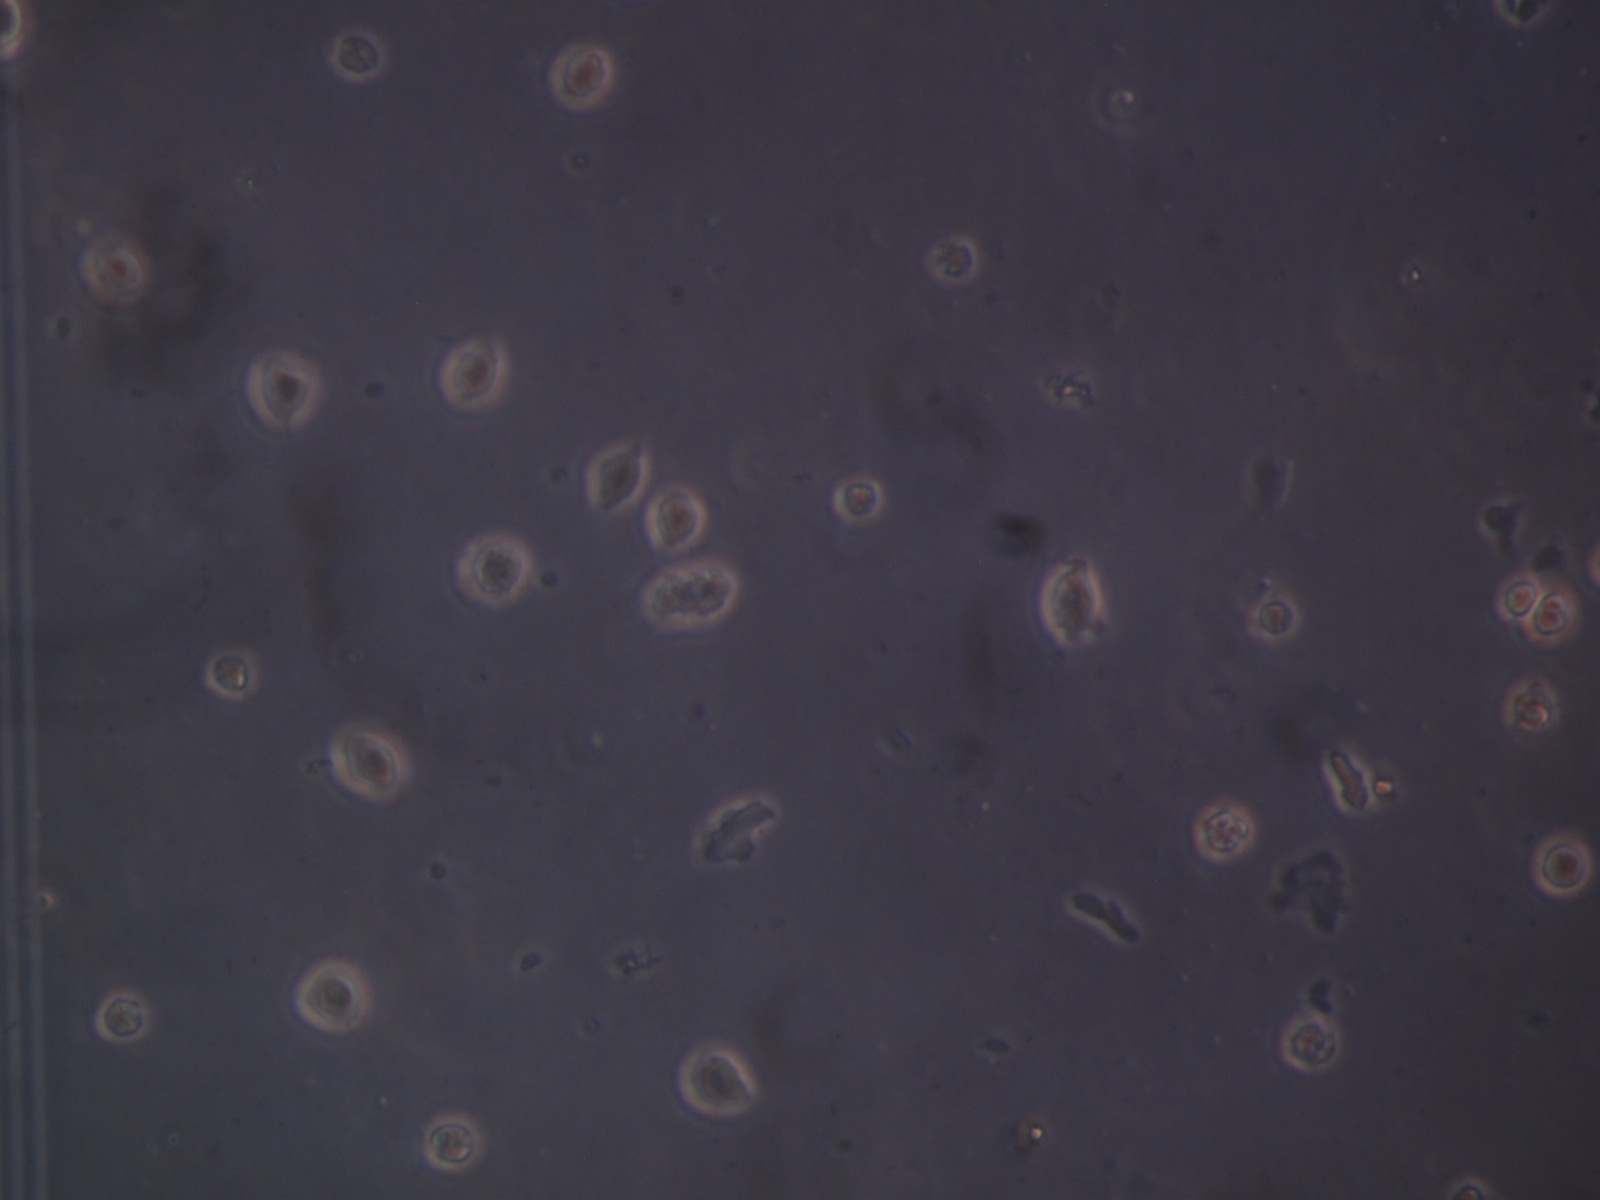hemo: (645, 560, 741, 629), (246, 348, 323, 431), (292, 955, 369, 1034), (455, 532, 532, 609), (329, 724, 404, 802), (678, 1041, 756, 1116), (438, 338, 510, 411), (1044, 562, 1101, 645), (547, 44, 616, 108), (645, 485, 709, 555), (587, 439, 648, 512), (1277, 1008, 1343, 1074), (1529, 829, 1592, 897), (82, 236, 144, 304), (423, 1109, 483, 1174), (328, 21, 387, 83), (1194, 800, 1255, 860), (204, 645, 261, 700), (831, 471, 886, 526), (1247, 590, 1303, 643), (93, 991, 149, 1042), (1528, 587, 1576, 644), (927, 234, 979, 281), (1499, 571, 1545, 621)
